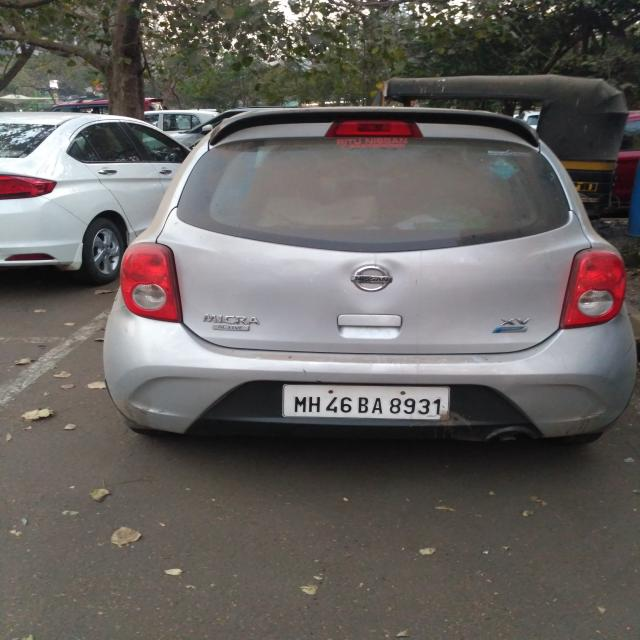Number-Plate: (289, 381, 449, 417)
